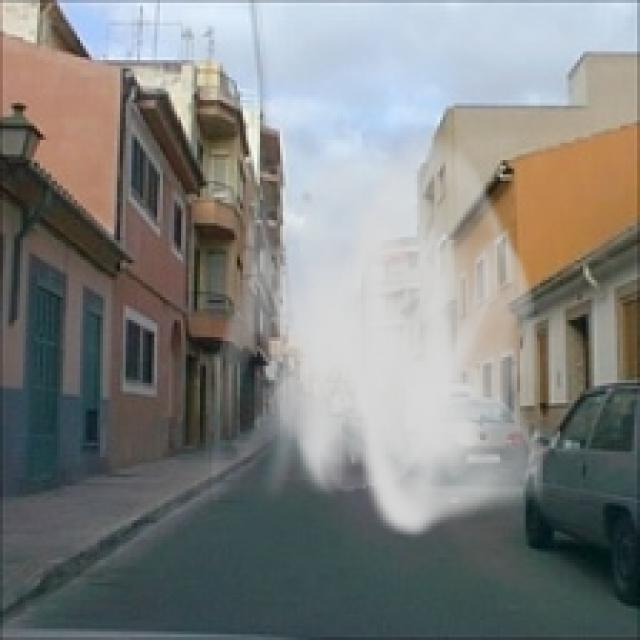smoke: (203, 120, 554, 540)
